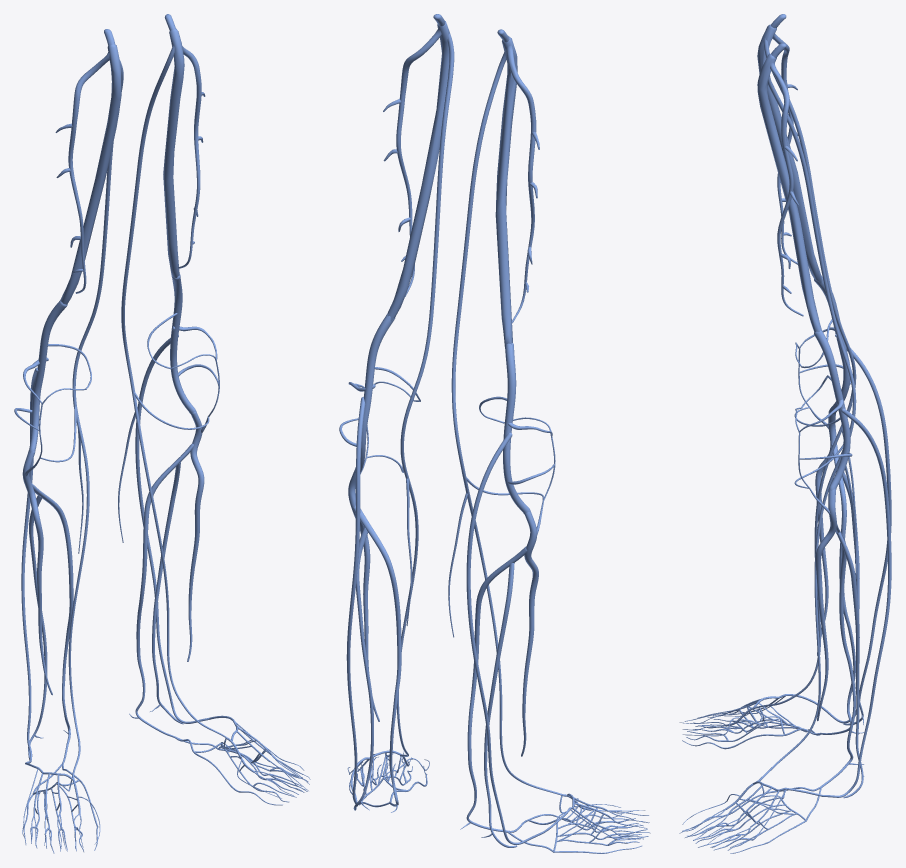
Rendered from veines-membre-inf.lo.glb.
The picture shows the model from 3 angles, left to right: view 1: azimuth 30°, elevation 25°; view 2: azimuth 150°, elevation 25°; view 3: azimuth 270°, elevation 25°; orthographic projection. The views are drawn at different scales.
Visible parts, largest first — view 1: FJ2103, FJ2144, FJ2145, FJ2102, FJ2121, FJ2118, FJ2135, FJ2183, FJ2193, FJ2176, FJ2173, FJ2171 (+6 smaller); view 2: FJ2145, FJ2103, FJ2144, FJ2102, FJ2176, FJ2121, FJ2118, FJ2173, FJ2135, FJ2171, FJ2099, FJ2193 (+5 smaller); view 3: FJ2103, FJ2102, FJ2145, FJ2144, FJ2121, FJ2176, FJ2099, FJ2117, FJ2183, FJ2187, FJ2118, FJ2173 (+9 smaller).
Part boxes in pixels (box(x1,y1,x2,y2)): FJ2103: box(118, 45, 226, 737); FJ2144: box(60, 44, 121, 304); FJ2145: box(68, 59, 123, 775); FJ2102: box(163, 29, 184, 277); FJ2121: box(135, 335, 209, 723); FJ2118: box(135, 443, 193, 737); FJ2135: box(68, 29, 115, 293); FJ2183: box(187, 412, 204, 661); FJ2193: box(22, 450, 52, 695); FJ2176: box(21, 367, 38, 763); FJ2173: box(31, 483, 73, 763); FJ2171: box(29, 301, 67, 452); FJ2145: box(448, 52, 563, 796); FJ2103: box(396, 33, 454, 756); FJ2144: box(495, 36, 517, 348); FJ2102: box(387, 21, 449, 321); FJ2176: box(466, 432, 544, 845); FJ2121: box(346, 397, 365, 806); FJ2118: box(353, 506, 401, 806); FJ2173: box(466, 546, 527, 832); FJ2135: box(497, 29, 536, 323); FJ2171: box(503, 343, 530, 514); FJ2099: box(396, 14, 445, 296); FJ2193: box(521, 512, 538, 756); FJ2103: box(759, 76, 856, 781); FJ2102: box(757, 53, 822, 331); FJ2145: box(759, 38, 856, 707); FJ2144: box(757, 24, 822, 283); FJ2121: box(822, 408, 891, 797); FJ2176: box(821, 348, 891, 723); FJ2099: box(770, 43, 803, 316); FJ2117: box(814, 330, 850, 490); FJ2183: box(815, 488, 836, 721); FJ2187: box(836, 532, 863, 798); FJ2118: box(820, 524, 855, 787); FJ2173: box(820, 443, 855, 734).
Size of the model in its own units: 0.3398 by 0.8957 by 0.2271.
